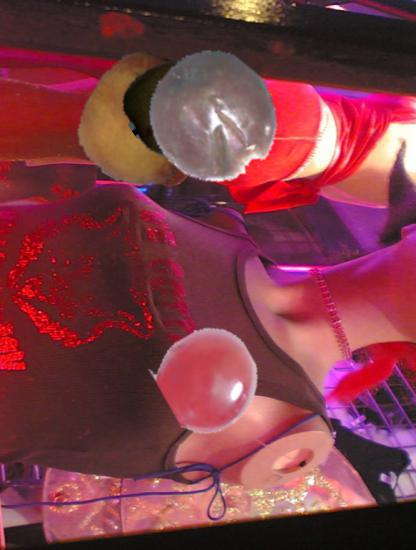Passion: (147, 51, 283, 187)
Peach: (78, 55, 210, 187)
Pear: (125, 44, 244, 163)
Redcurrant: (158, 328, 261, 431)
